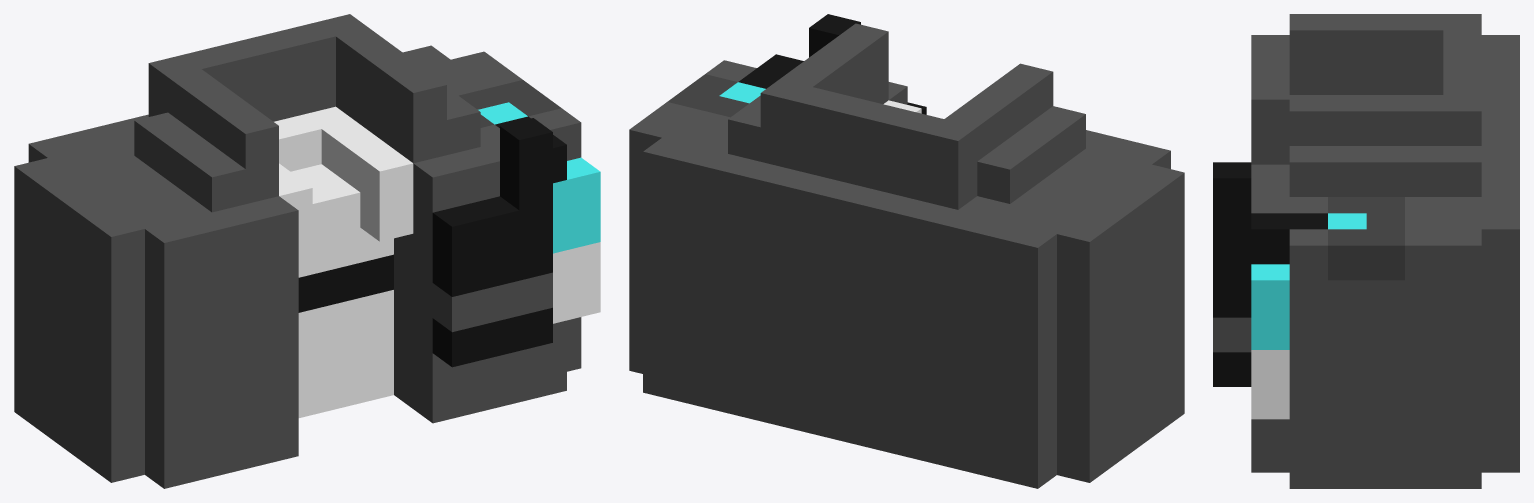
The model's file is character chest modeling.obj.
3 views of the same model, side by side, from view 1: azimuth 30°, elevation 25°; view 2: azimuth 150°, elevation 25°; view 3: azimuth 270°, elevation 25° (orthographic). The views are drawn at different scales.
Bounding box in the file's own units: 1.4 × 0.9 × 0.8.
1 material, 1 textured.
